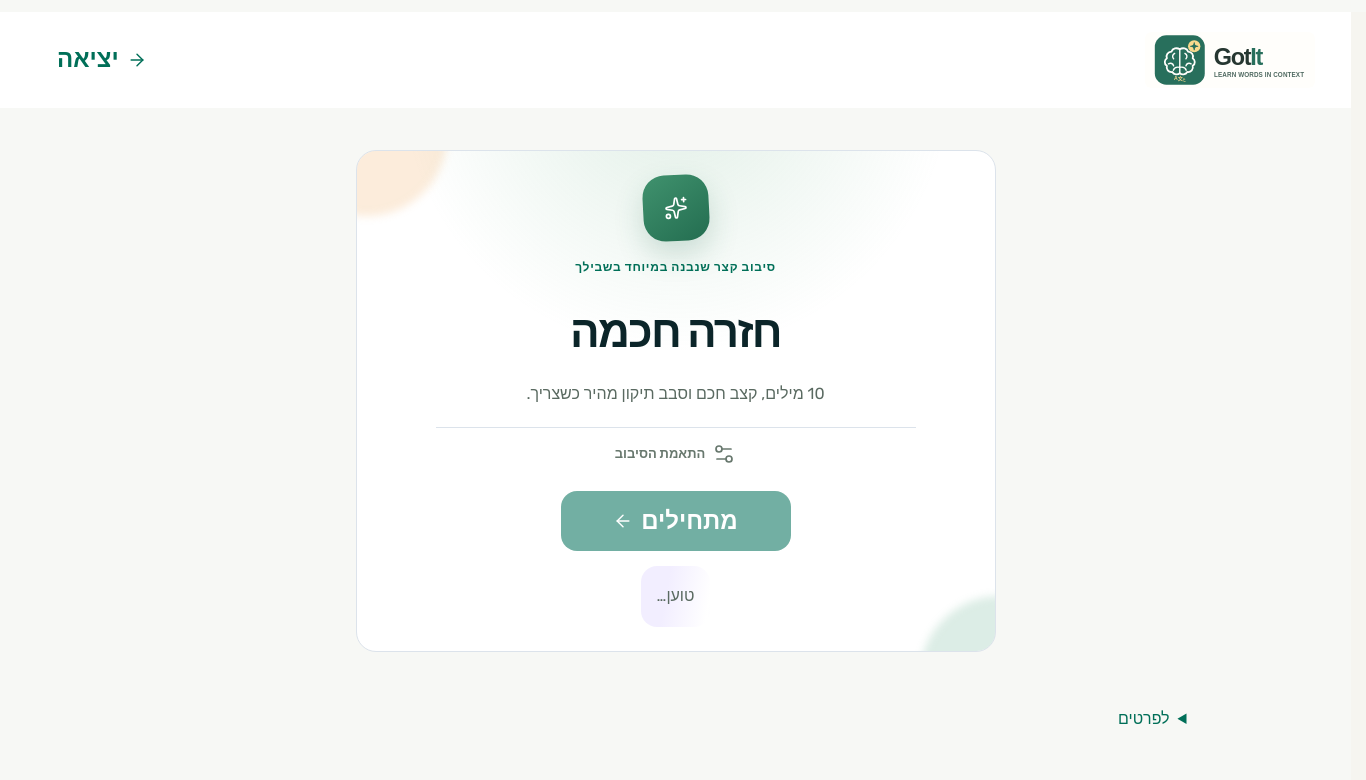
Test: live server-backed flows › waits for the selected English language before creating smart practice with an Arabic-default profile
Step 1. Click the button "מתחילים" → (676, 521), box x1=560 y1=491 x2=790 y2=551
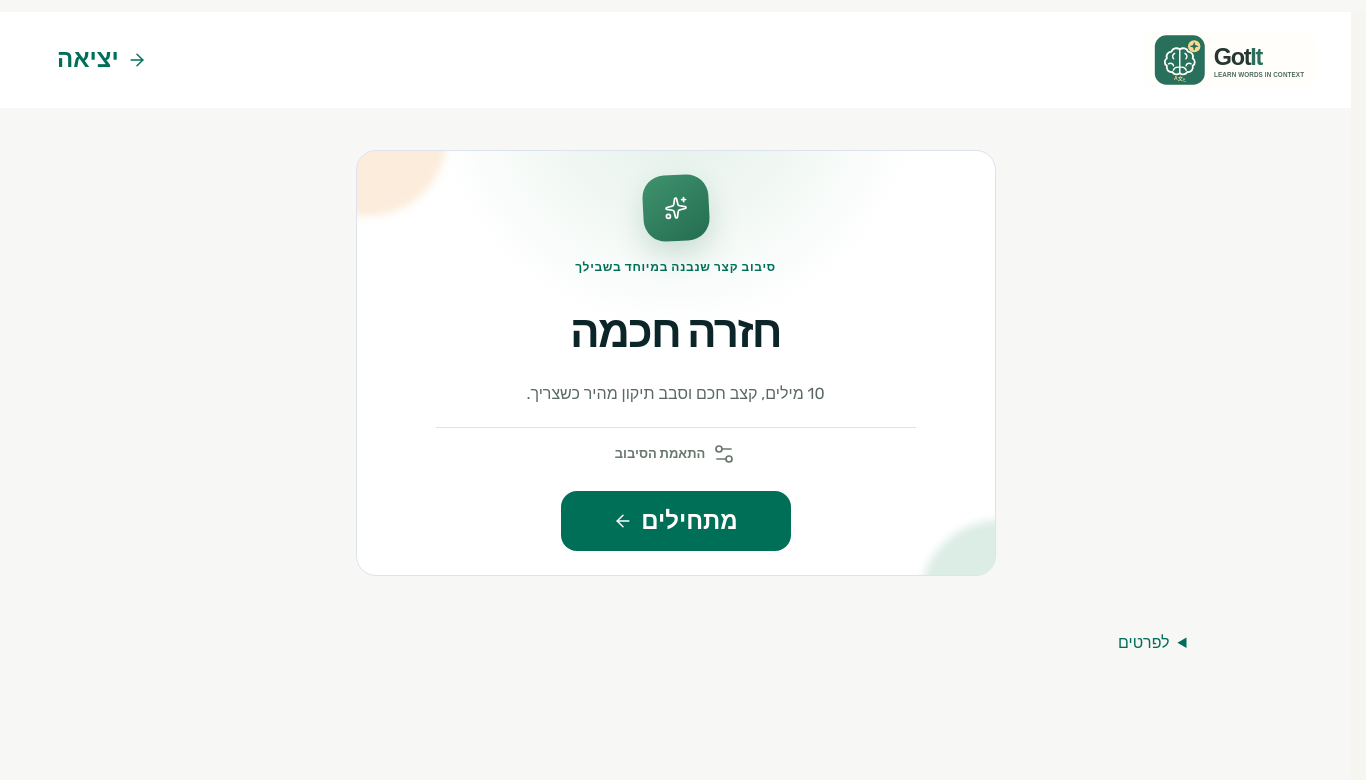
expect the button "מתחילים" is enabled: met
Step 2. Click the button "מתחילים" → (676, 521), box x1=560 y1=491 x2=790 y2=551
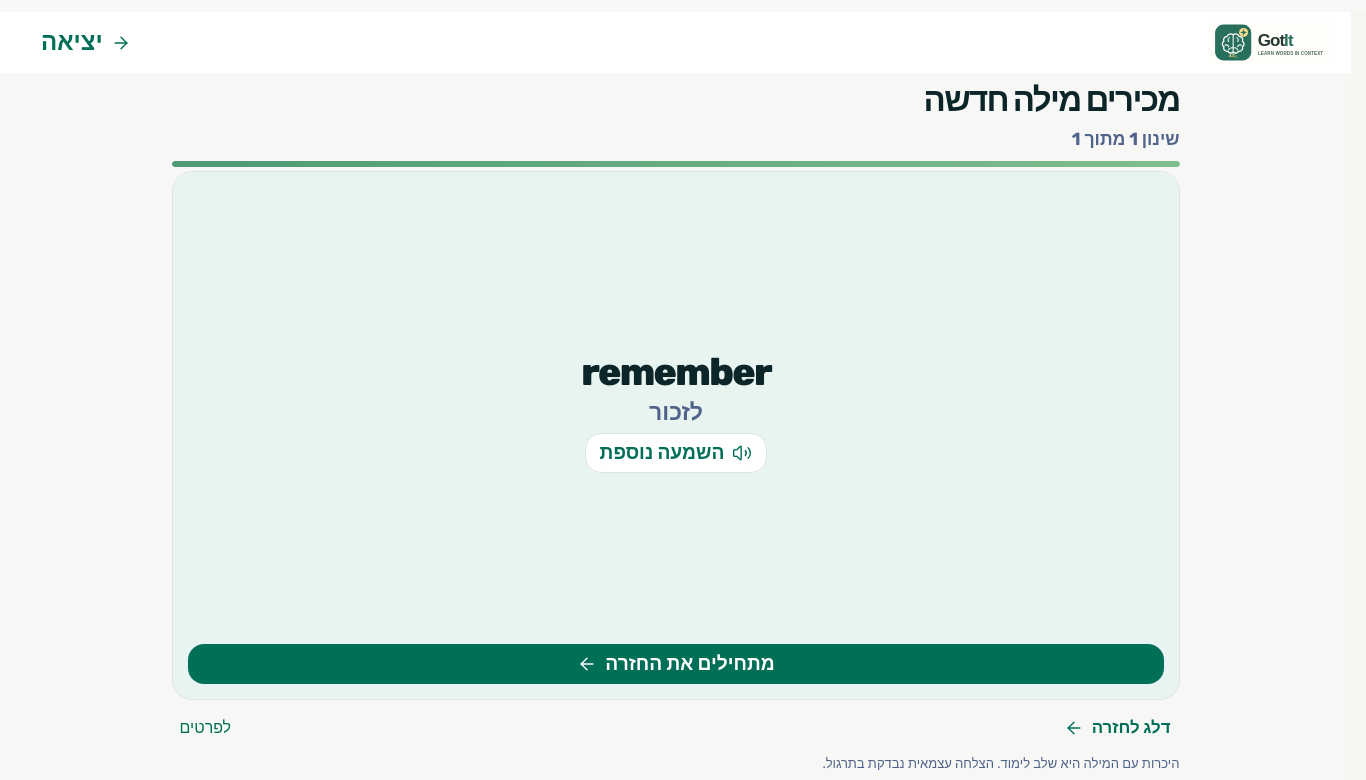
expect the heading "remember" is shown: met, box x1=581 y1=351 x2=770 y2=393
